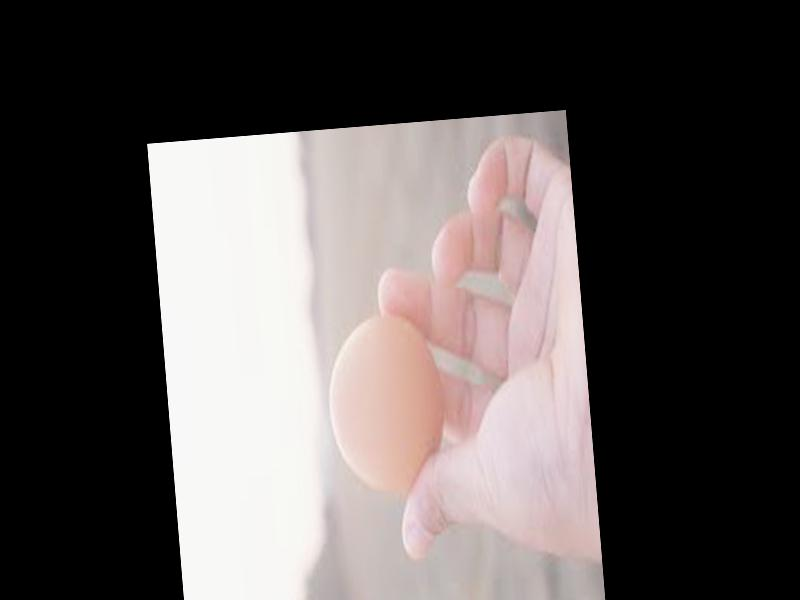Eggs: (322, 310, 447, 496)
